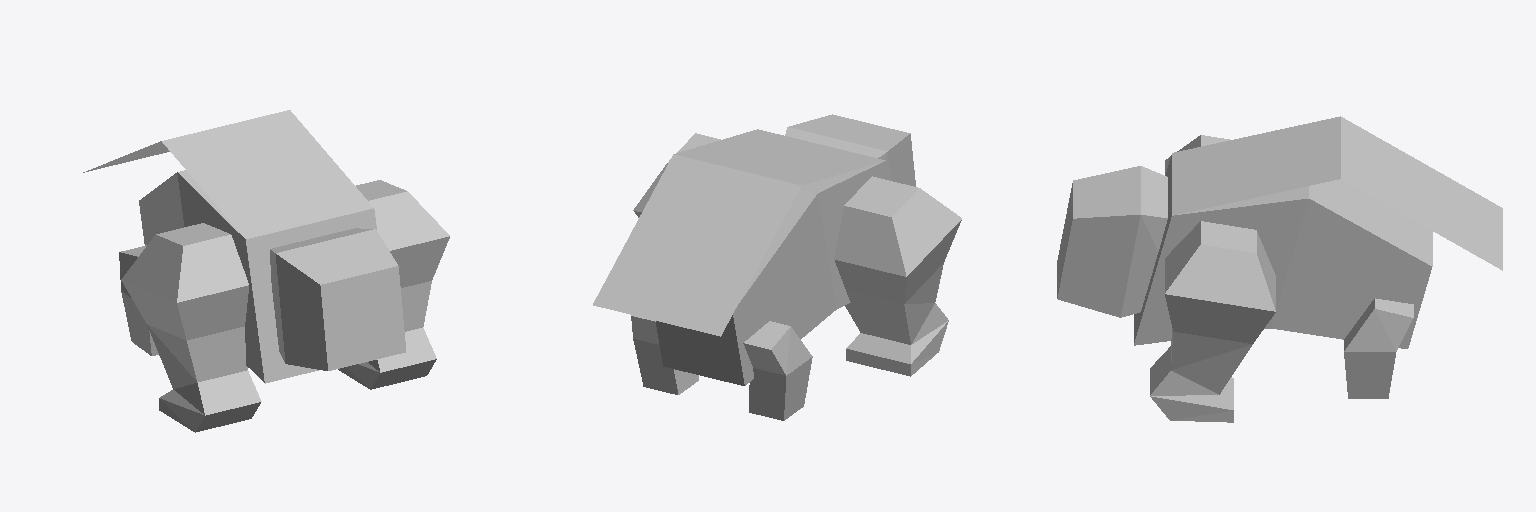
File: yeti.obj
3 views of the same model, side by side, from view 1: azimuth 30°, elevation 25°; view 2: azimuth 150°, elevation 25°; view 3: azimuth 270°, elevation 25° (orthographic).
Visible parts, largest first — view 1: Body, LegRightFront, Head, LegLeftFront, LegRightBack; view 2: Body, LegRightFront, LegRightBack, Head, LegLeftBack, LegLeftFront; view 3: Body, LegLeftFront, Head, LegLeftBack.
Part boxes in pixels (x1,y1,x2,y2): Body: (83,110,376,383); LegRightFront: (121,223,261,432); Head: (270,228,405,370); LegLeftFront: (338,180,449,389); LegRightBack: (119,245,158,355); Body: (593,129,889,385); LegRightFront: (834,176,961,376); LegRightBack: (743,321,812,420); Head: (785,114,915,186); LegLeftBack: (631,315,698,394); LegLeftFront: (633,133,720,217); Body: (1134,116,1502,348); LegLeftFront: (1150,221,1275,422); Head: (1057,166,1167,317); LegLeftBack: (1344,298,1413,398).
Bounding box in the file's own units: 3.74 × 2.83 × 5.28.